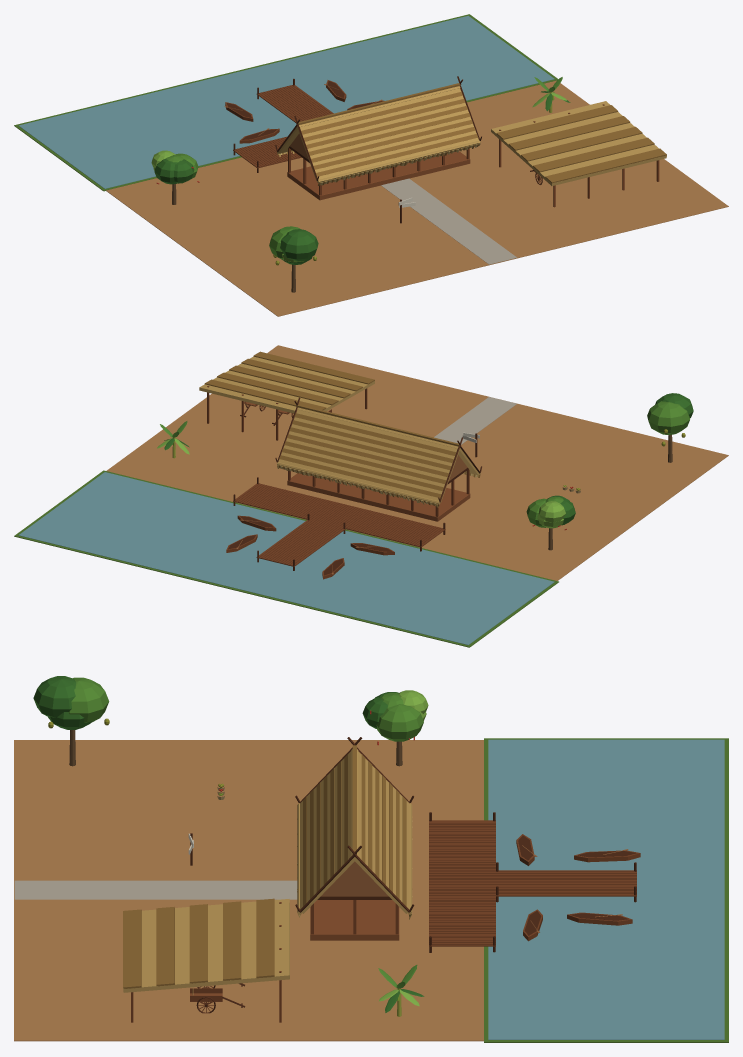
The model's file is station.glb.
The picture shows the model from 3 angles, top to bottom: view 1: azimuth 30°, elevation 25°; view 2: azimuth 150°, elevation 25°; view 3: azimuth 270°, elevation 25°; orthographic projection. The views are drawn at different scales.
Visible parts, largest first — view 1: body; view 2: body; view 3: body.
Part boxes in pixels (left/top/right/bottom): body: left=14, top=14, right=728, bottom=316; body: left=14, top=345, right=728, bottom=647; body: left=14, top=676, right=728, bottom=1042.
Size of the model in its own units: 48.4 by 7.71 by 48.15.
